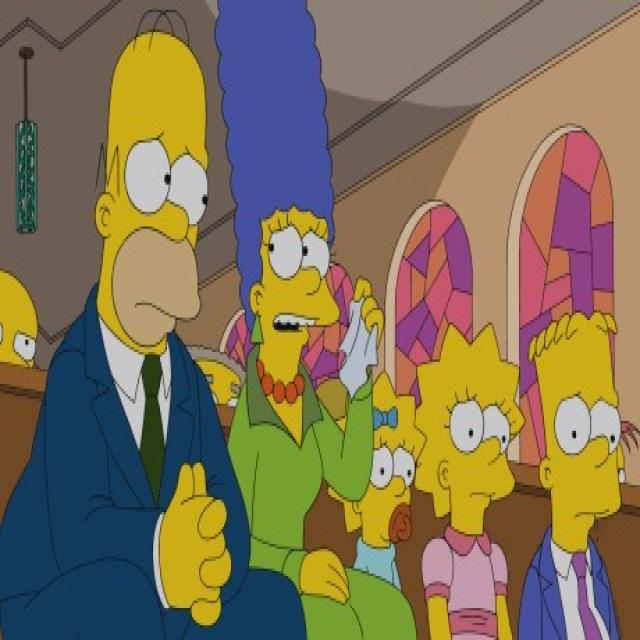Bart Simpson: (524, 304, 624, 558)
Homer Simpson: (89, 0, 213, 364)
Lisa Simpson: (412, 314, 529, 548)
Maggie Simpson: (325, 363, 432, 558)
Marge Simpson: (212, 0, 345, 411)
